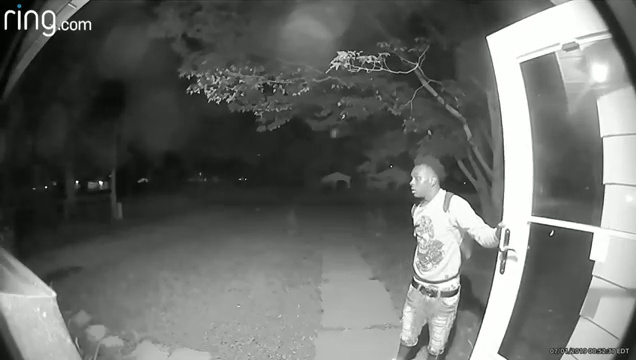face: (409, 166, 426, 197)
